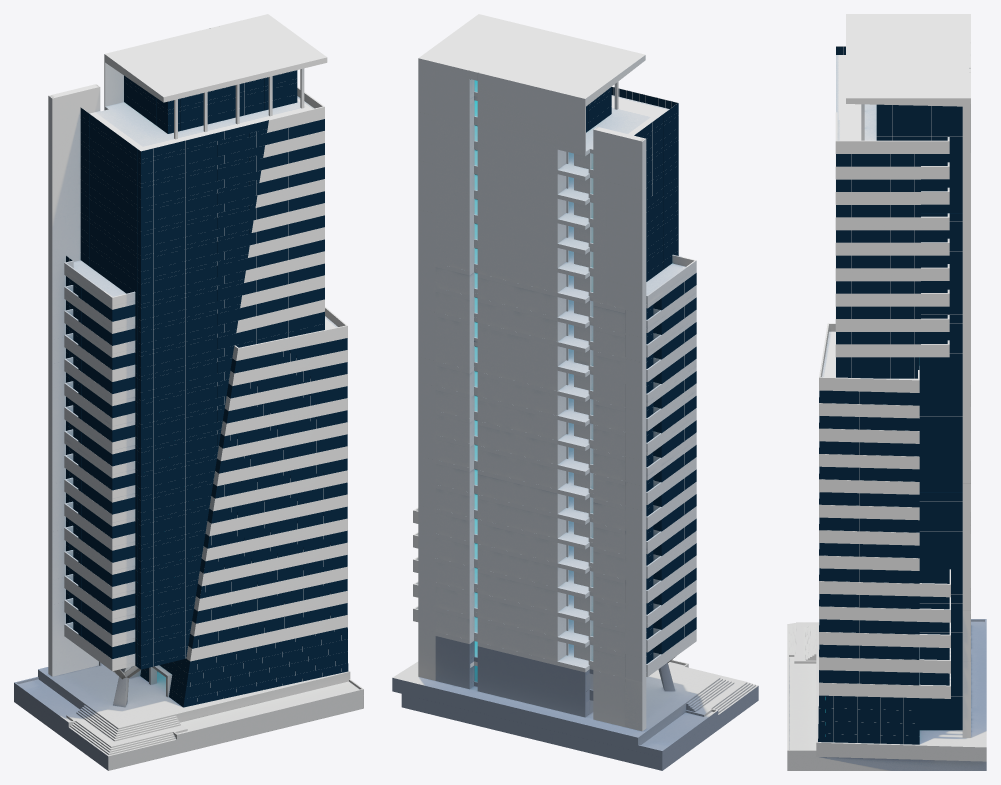
The model's file is Tower.FBX.
3 views of the same model, side by side, from view 1: azimuth 30°, elevation 25°; view 2: azimuth 150°, elevation 25°; view 3: azimuth 270°, elevation 25° (orthographic). The views are drawn at different scales.
Visible parts, largest first — view 1: WindowGlass, Ground, WallFront00, SlabTop, ColumnsLeft10, WallLeft00, WallFrontB002, SlabBottom, Slab, Windows, WallsTop00; view 2: WallsFirst01, WallsFirst00, WallsSecond00, SlabTop, ColumnsLeft10, Ground, WindowGlass, Slab, ColumnsRight00, SlabBottom, WallsTop00, WallLeft00 (+1 smaller); view 3: WindowGlass, WallFront00, WallFrontB002, SlabTop, Ground, ColumnsRight00, Slab, SlabBottom, Windows.
Part boxes in pixels (<box>): WindowGlass: <box>66,70,348,707</box>; Ground: <box>14,663,363,770</box>; WallFront00: <box>187,306,347,657</box>; SlabTop: <box>89,17,327,151</box>; ColumnsLeft10: <box>48,84,100,676</box>; WallLeft00: <box>64,260,135,667</box>; WallFrontB002: <box>236,87,324,332</box>; SlabBottom: <box>64,478,347,671</box>; Slab: <box>64,260,347,502</box>; Windows: <box>69,83,341,701</box>; WallsTop00: <box>104,18,304,139</box>; WallsFirst01: <box>435,267,624,505</box>; WallsFirst00: <box>435,464,624,677</box>; WallsSecond00: <box>435,120,606,304</box>; SlabTop: <box>423,14,669,284</box>; ColumnsLeft10: <box>593,127,646,731</box>; Ground: <box>392,659,758,770</box>; WindowGlass: <box>586,87,696,663</box>; Slab: <box>435,248,696,509</box>; ColumnsRight00: <box>418,55,439,680</box>; SlabBottom: <box>435,470,696,681</box>; WallsTop00: <box>435,62,618,151</box>; WallLeft00: <box>646,254,696,672</box>; WindowGlass: <box>818,46,962,744</box>; WallFront00: <box>819,323,950,698</box>; WallFrontB002: <box>835,112,949,357</box>; SlabTop: <box>836,14,969,140</box>; Ground: <box>787,619,986,770</box>; ColumnsRight00: <box>962,89,970,737</box>; Slab: <box>819,331,919,520</box>; SlabBottom: <box>819,538,919,712</box>; Windows: <box>819,46,962,744</box>.
Size of the model in its own units: 4141 by 9460 by 2555.
